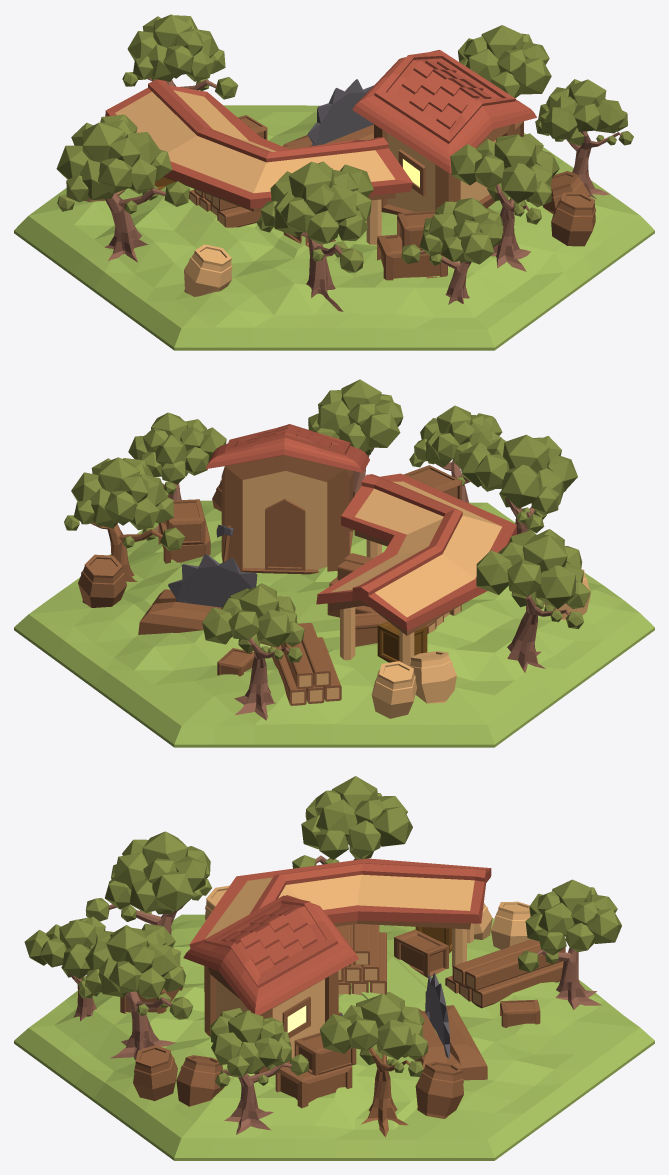
The model's file is lumber_mill.glb.
The picture shows the model from 3 angles, top to bottom: view 1: azimuth 30°, elevation 25°; view 2: azimuth 150°, elevation 25°; view 3: azimuth 270°, elevation 25°; orthographic projection.
Visible parts, largest first — view 1: lumbermill, saw.top; view 2: lumbermill, saw.top; view 3: lumbermill, saw.top.
Part boxes in pixels (x1,y1,x2,y2): lumbermill: [14, 14, 654, 350]; saw.top: [307, 79, 373, 145]; lumbermill: [14, 379, 654, 747]; saw.top: [168, 554, 257, 607]; lumbermill: [14, 776, 654, 1160]; saw.top: [425, 973, 449, 1058].
Size of the model in its own units: 1.83 by 0.592 by 2.
2 materials, 2 textured.
